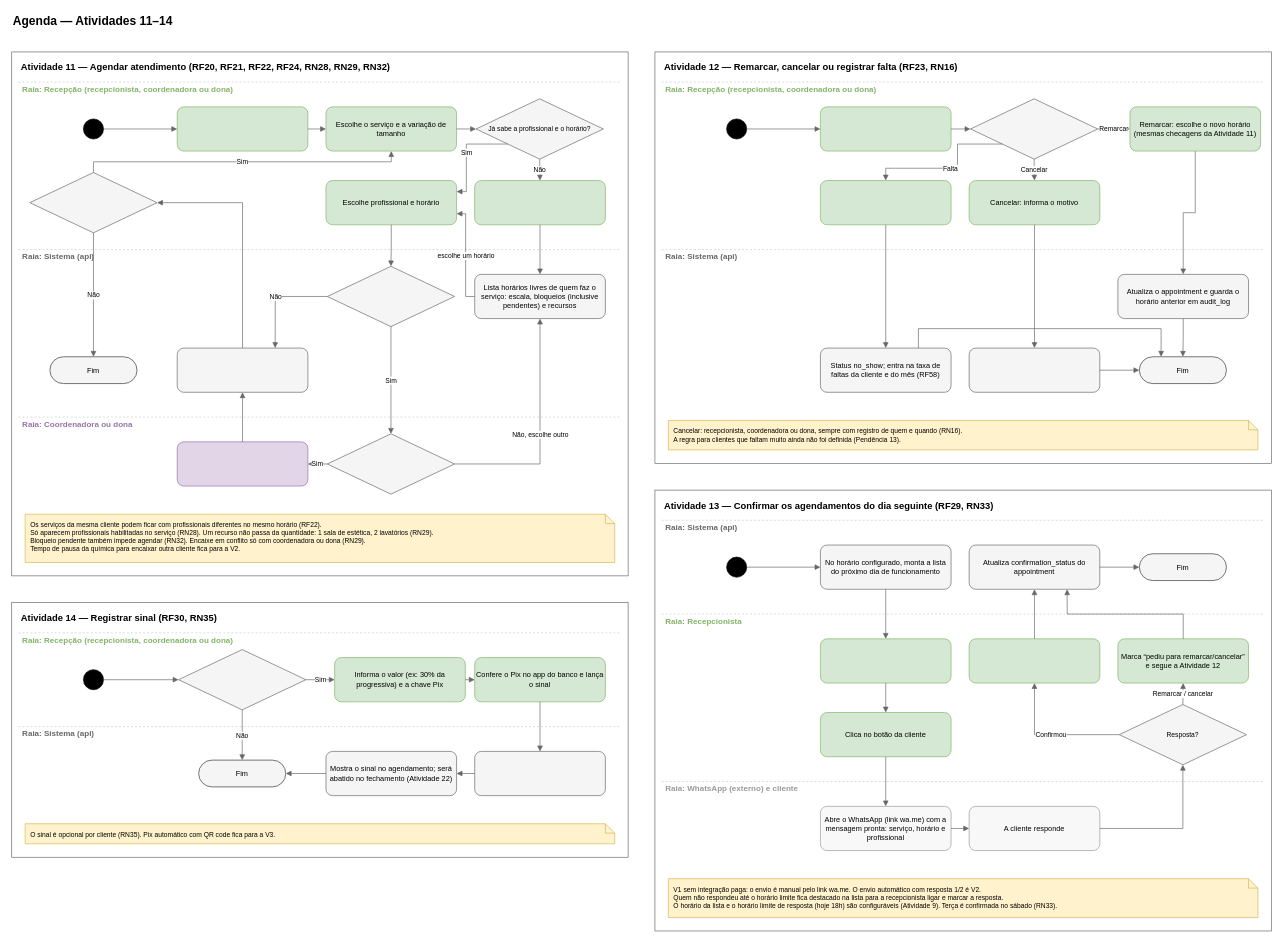
Some shapes in this 1283 by 943 pixel diagram are drawn without their labels. The centre of each missing label's shape, as x and y in pixels:
"A cliente/serviço exige sinal?" belongs at (x=242, y=679).
"Abre a lista de confirmação" belongs at (x=885, y=660).
"Abre o agendamento na agenda" belongs at (x=885, y=128).
"Busca a cliente (Atividade 4) e vê alergias e preferências" belongs at (x=242, y=128).
"Confirma o encaixe mesmo com conflito?" belongs at (x=391, y=463).
"Conflito de profissional ou de recurso?" belongs at (x=391, y=296).
"Cria appointment + appointment_item (status scheduled)" belongs at (x=242, y=369).
"Falta: a cliente não veio" belongs at (x=885, y=202).
"Grava deposit ligado ao appointment e lança a entrada no caixa como Pix" belongs at (x=539, y=773).
"Mais algum serviço para a cliente?" belongs at (x=93, y=202).
"Marca confirmado" belongs at (x=1034, y=660).
"O que fazer?" belongs at (x=1034, y=128).
"Pede a sugestão do primeiro horário livre" belongs at (x=539, y=202).
"Registra o encaixe com o nome de quem confirmou" belongs at (x=242, y=463).
"Status canceled com quem, quando e motivo; libera profissional e recurso" belongs at (x=1034, y=369).
